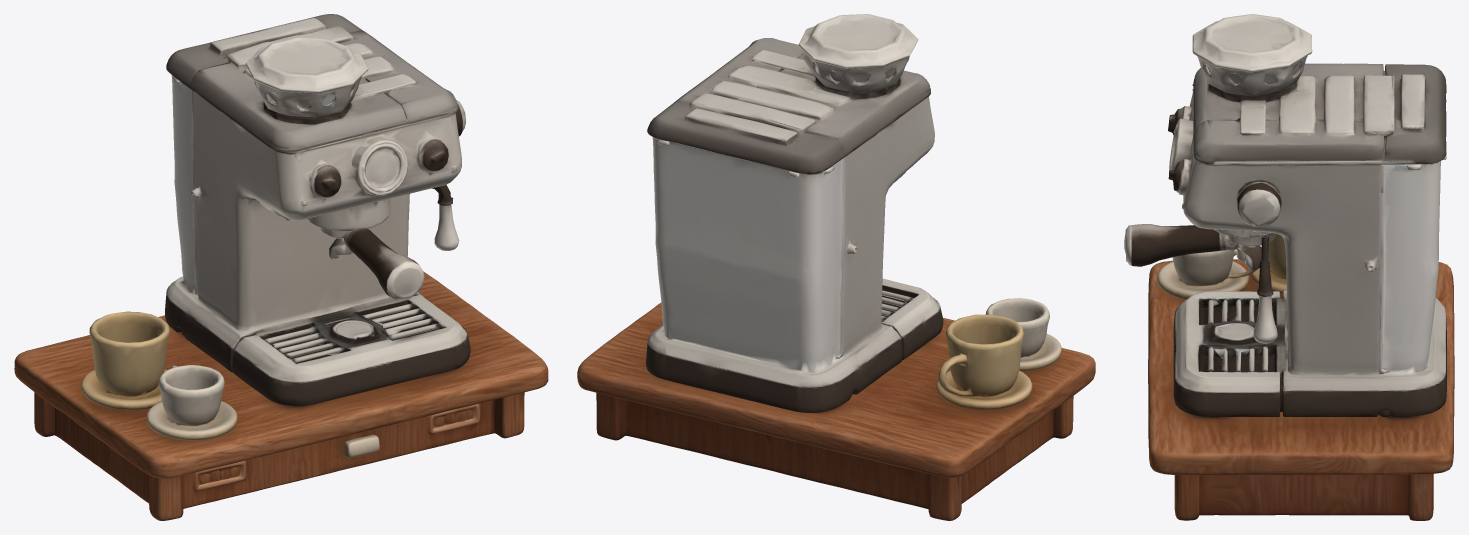
Rendered from padaria_cafe.glb.
3 views of the same model, side by side, from view 1: azimuth 30°, elevation 25°; view 2: azimuth 150°, elevation 25°; view 3: azimuth 270°, elevation 25° (orthographic). The views are drawn at different scales.
Visible parts, largest first — view 1: tripo_node_f922483e-00d9-450b-aac9-1354badda62b; view 2: tripo_node_f922483e-00d9-450b-aac9-1354badda62b; view 3: tripo_node_f922483e-00d9-450b-aac9-1354badda62b.
Part boxes in pixels (box(x1,y1,x2,y2)): tripo_node_f922483e-00d9-450b-aac9-1354badda62b: box(14, 14, 548, 520); tripo_node_f922483e-00d9-450b-aac9-1354badda62b: box(577, 14, 1095, 520); tripo_node_f922483e-00d9-450b-aac9-1354badda62b: box(1124, 14, 1454, 520).
Bounding box in the file's own units: 0.9783 × 0.9236 × 0.6935.
Materials: 1 (1 with a texture image).
